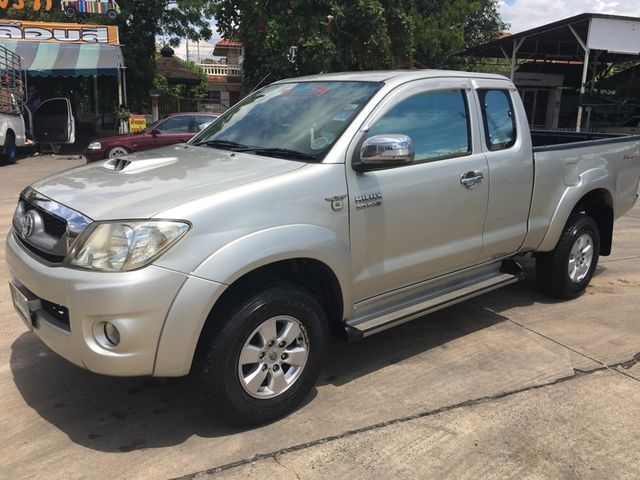pickup: (5, 69, 640, 426)
